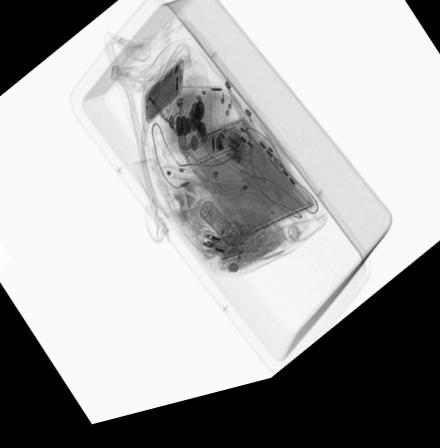Lighter: (235, 194, 250, 212)
